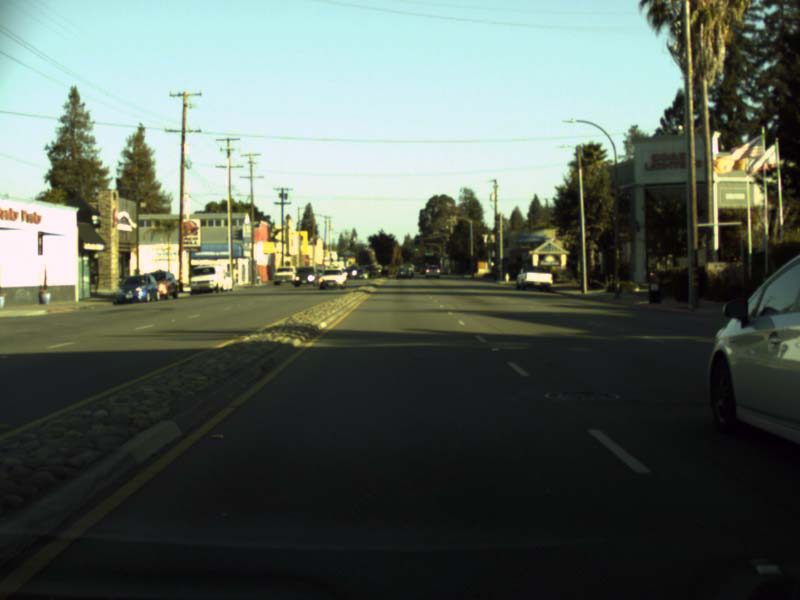Green: (413, 248, 418, 252)
